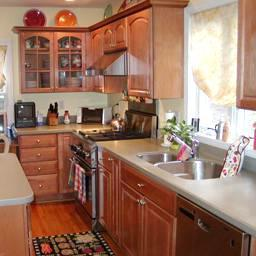Electrodomestico: (173, 198, 245, 253), (71, 142, 98, 230)
Lavaplatos: (133, 141, 235, 182)
